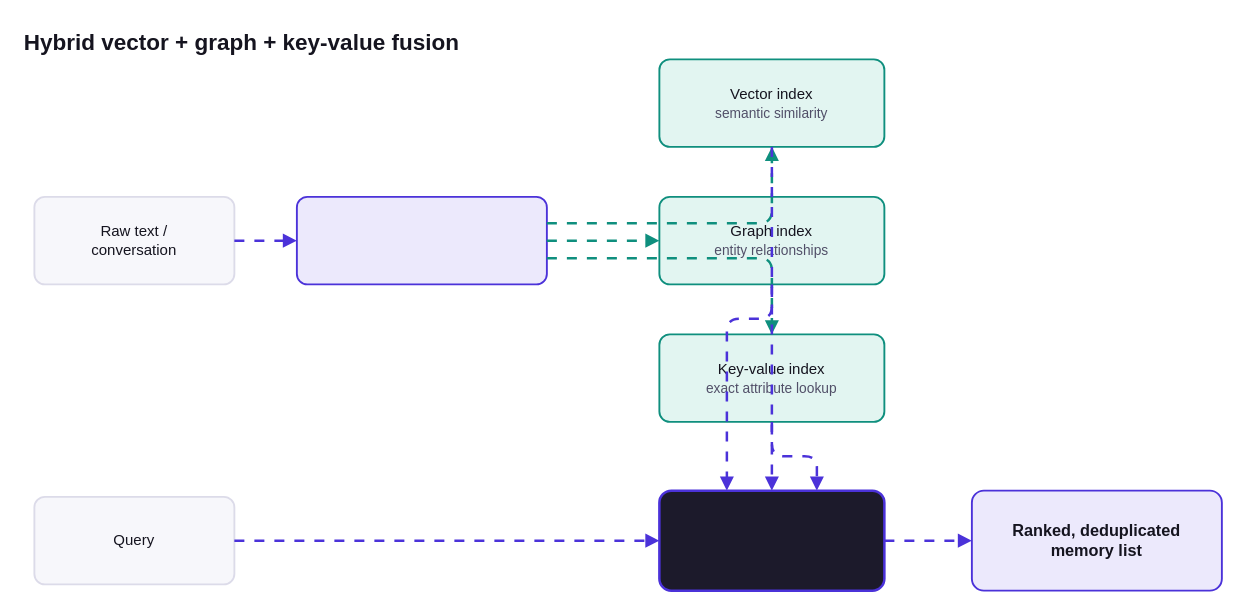
This 1244x613 diagram has some shape labels left out. Each missing label, with the centre of its shape:
"LLM fact extraction + type classification" belongs at pixel 421 240.
"Retrieval fusion" belongs at pixel 771 540.
